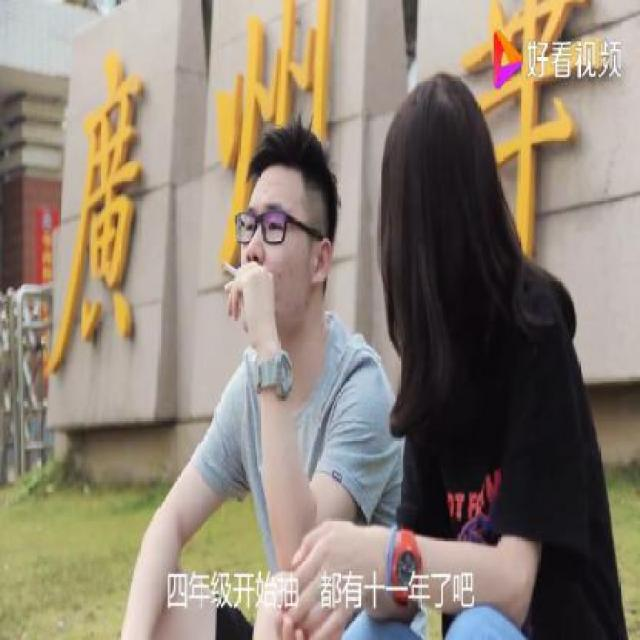smoke: (216, 249, 244, 285)
